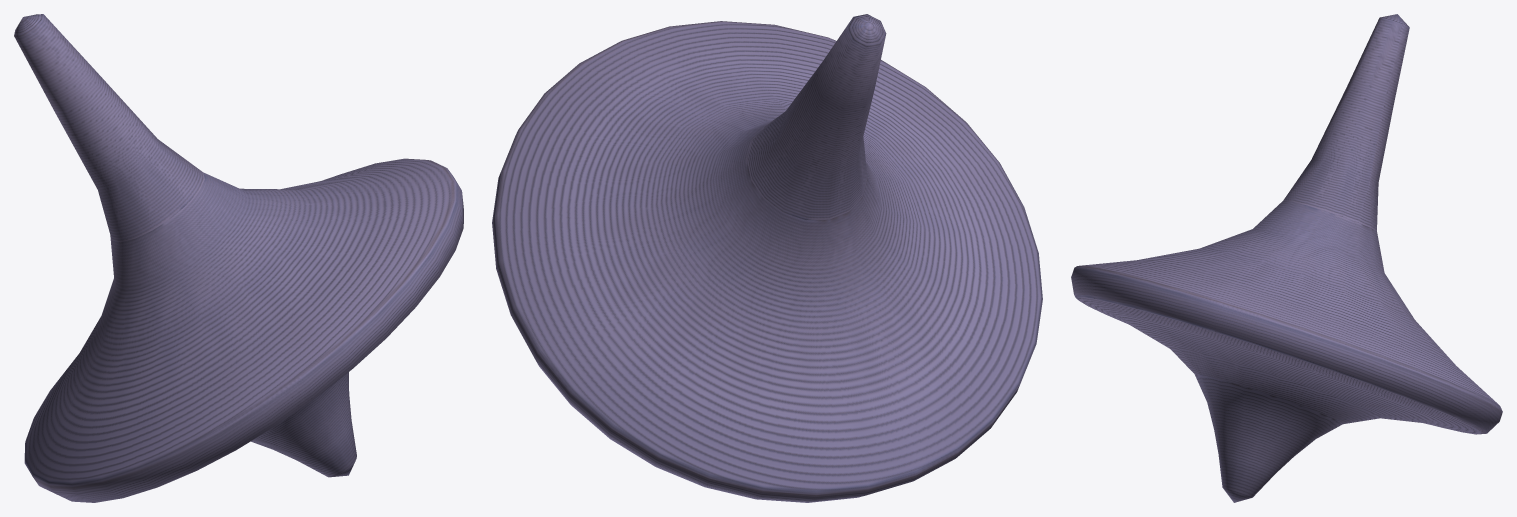
The model's file is SpinningTop.glb.
3 views of the same model, side by side, from view 1: azimuth 30°, elevation 25°; view 2: azimuth 150°, elevation 25°; view 3: azimuth 270°, elevation 25° (orthographic). The views are drawn at different scales.
Parts seen in each view (by area): view 1: SpinningTop.001; view 2: SpinningTop.001; view 3: SpinningTop.001.
Boxes of the visible parts, <box> form: SpinningTop.001: <box>14,14,463,502</box>; SpinningTop.001: <box>492,14,1042,502</box>; SpinningTop.001: <box>1071,14,1502,502</box>.
Size of the model in its own units: 1.39 by 1.48 by 1.48.
1 material, 1 textured.
